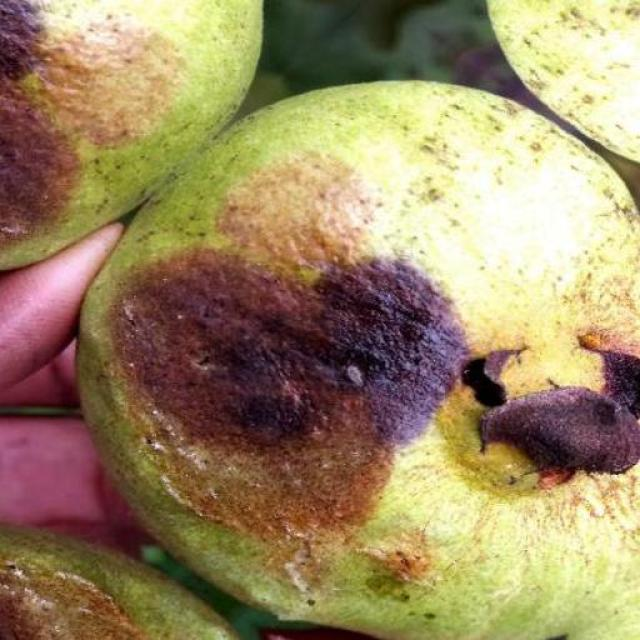Styler_Root: (80, 82, 640, 640), (0, 0, 262, 269)
